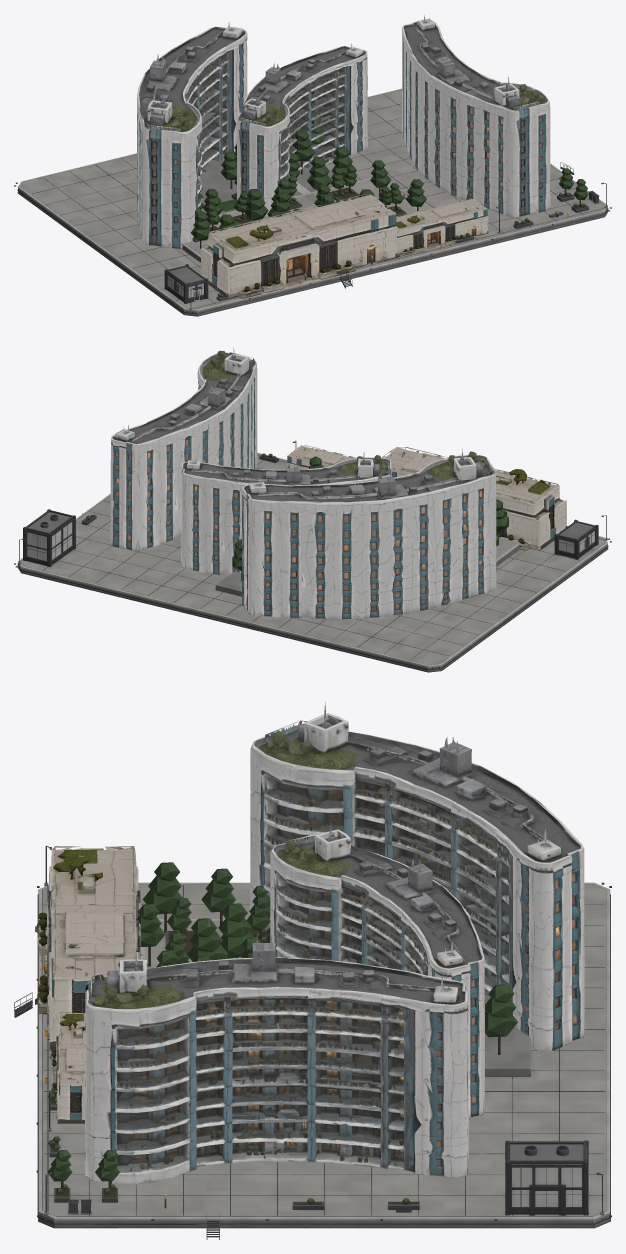
Rendered from residence.glb.
3 views of the same model, one above another, from view 1: azimuth 30°, elevation 25°; view 2: azimuth 150°, elevation 25°; view 3: azimuth 270°, elevation 25° (orthographic). The views are drawn at different scales.
Parts seen in each view (by area): view 1: parts_colony-curvedTerrace, hull, parts_colony-podiumSegment; view 2: parts_colony-curvedTerrace, hull, parts_colony-podiumSegment; view 3: parts_colony-curvedTerrace, hull, parts_colony-podiumSegment.
Boxes of the visible parts, box(x1,y1,x2,y2) form: parts_colony-curvedTerrace: box(137, 15, 550, 249); hull: box(14, 88, 611, 316); parts_colony-podiumSegment: box(201, 194, 488, 298); parts_colony-curvedTerrace: box(110, 347, 496, 619); hull: box(14, 440, 611, 672); parts_colony-podiumSegment: box(287, 445, 566, 550); parts_colony-curvedTerrace: box(85, 702, 584, 1184); hull: box(14, 845, 611, 1239); parts_colony-podiumSegment: box(35, 846, 142, 1123).
Size of the model in its own units: 103 by 33.68 by 75.27.
5 materials, 5 textured.
